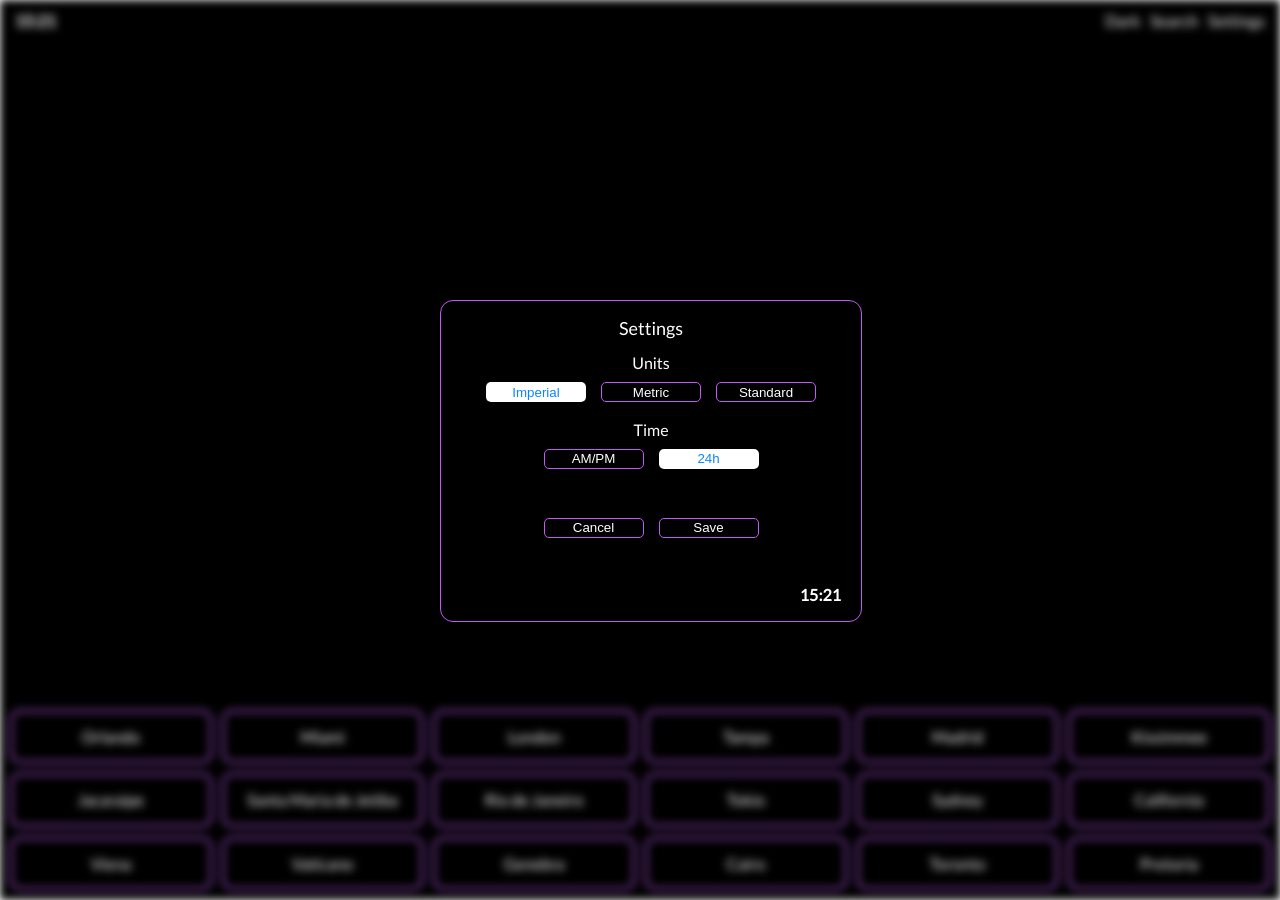
Test: close modal
The width and height of the screenshot is (1280, 900).
Click the button "Cancel": (594, 528) [544,518,644,538]
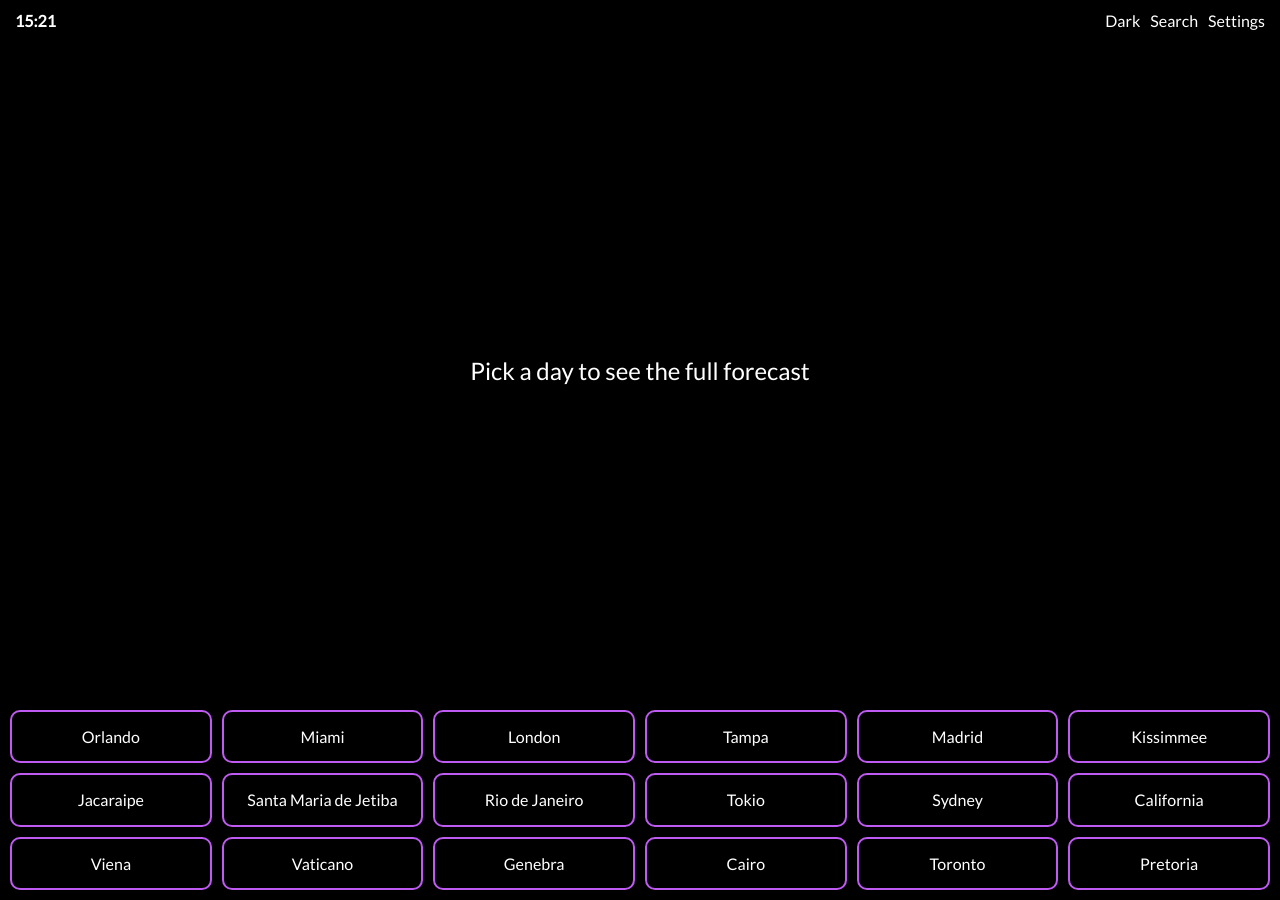
Result: the dialog is gone
